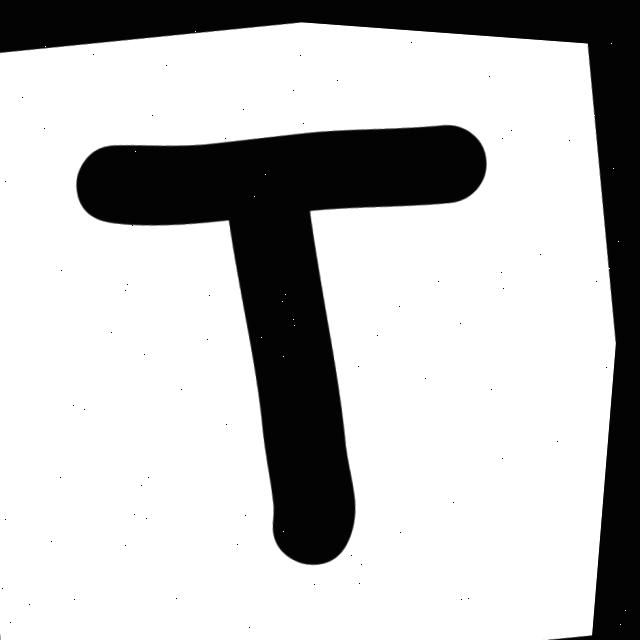T: (79, 118, 488, 558)
